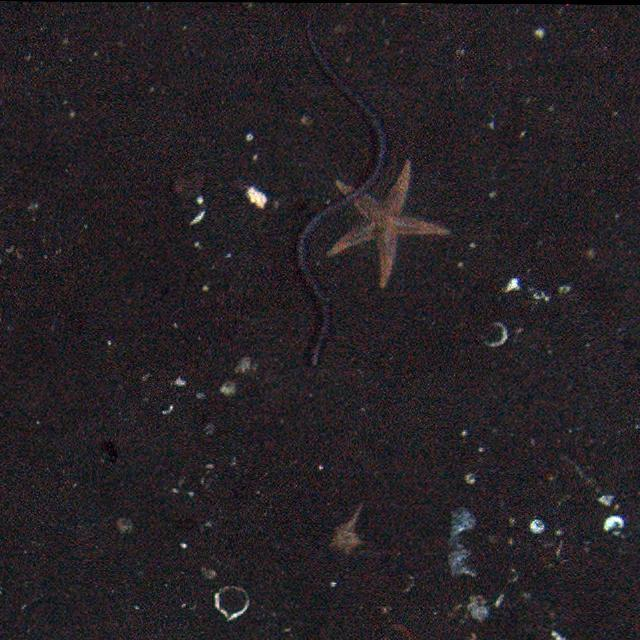eel: (290, 17, 392, 372)
